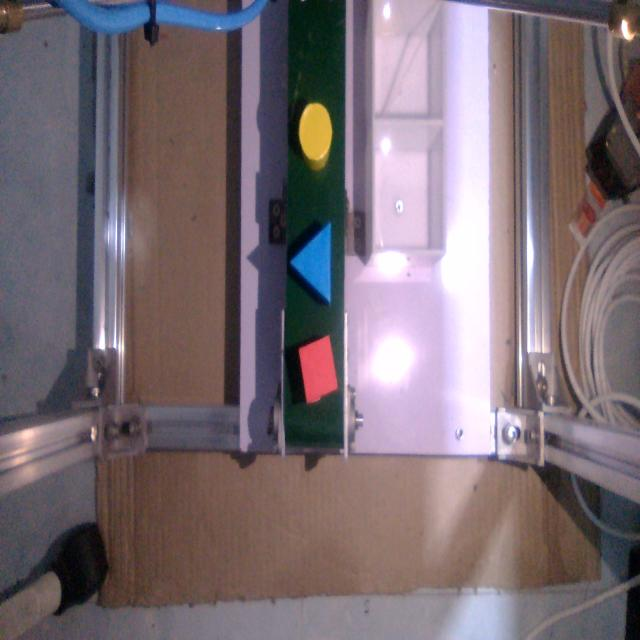BlueTri: (289, 213, 336, 313)
RedRec: (292, 327, 340, 412)
YelCir: (290, 98, 336, 170)
